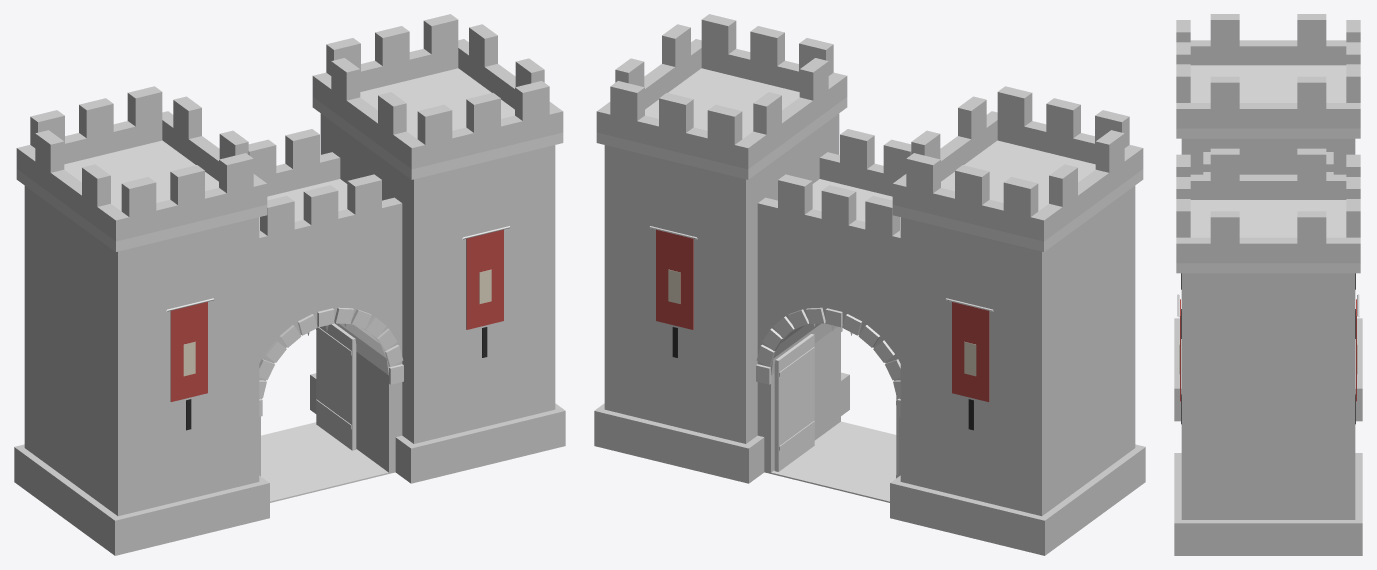
File: gatehouse.glb
3 renders of one model, left to right at view 1: azimuth 30°, elevation 25°; view 2: azimuth 150°, elevation 25°; view 3: azimuth 270°, elevation 25°, orthographic. The views are drawn at different scales.
Visible parts, largest first — view 1: gatehouse; view 2: gatehouse; view 3: gatehouse.
Boxes of the visible parts, <box> form: gatehouse: <box>14,14,565,555</box>; gatehouse: <box>594,14,1145,555</box>; gatehouse: <box>1174,14,1362,555</box>.
Bounding box in the file's own units: 13.4 × 10.3 × 5.2.
